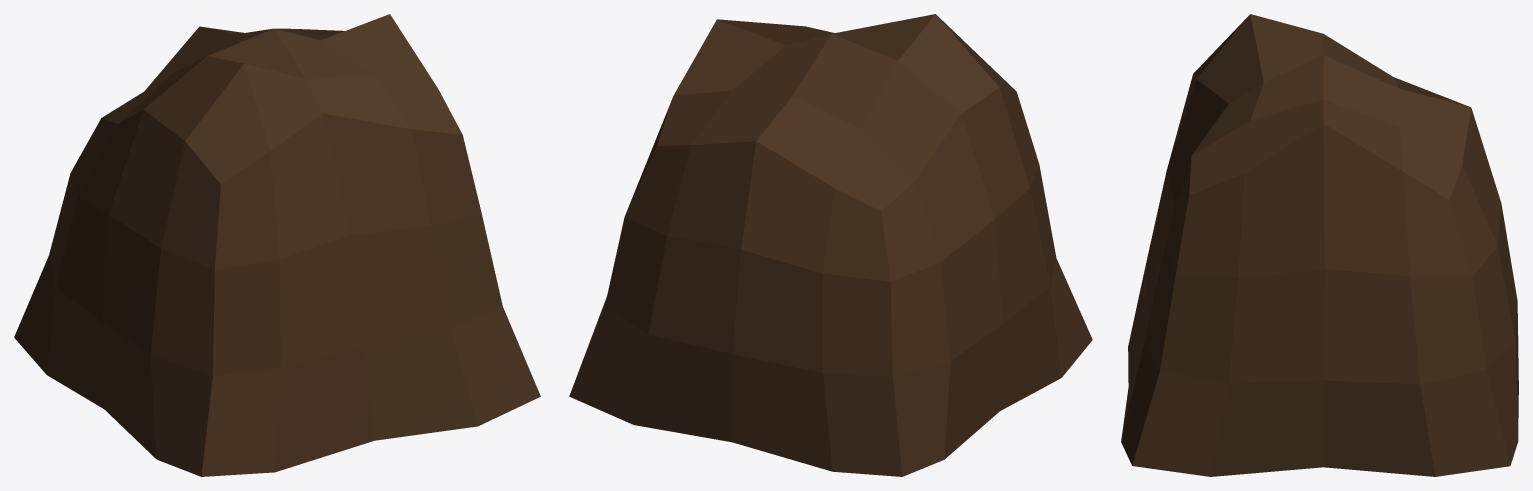
The model's file is Rock1.glb.
3 renders of one model, left to right at view 1: azimuth 30°, elevation 25°; view 2: azimuth 150°, elevation 25°; view 3: azimuth 270°, elevation 25°, orthographic. The views are drawn at different scales.
Visible parts, largest first — view 1: Cube; view 2: Cube; view 3: Cube.
Boxes of the visible parts, box(x1,y1,x2,y2) form: Cube: box(14, 14, 540, 476); Cube: box(569, 14, 1092, 476); Cube: box(1121, 14, 1518, 476).
Size of the model in its own units: 1.64 by 1.65 by 1.66.
